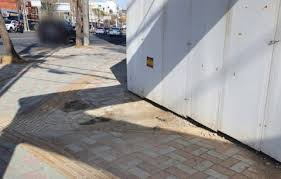block(line type): (44, 144, 93, 179)
